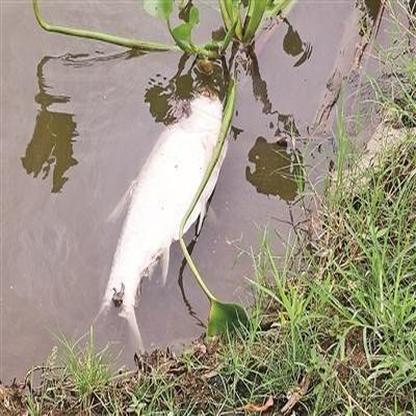deceased fish: (98, 72, 230, 337)
